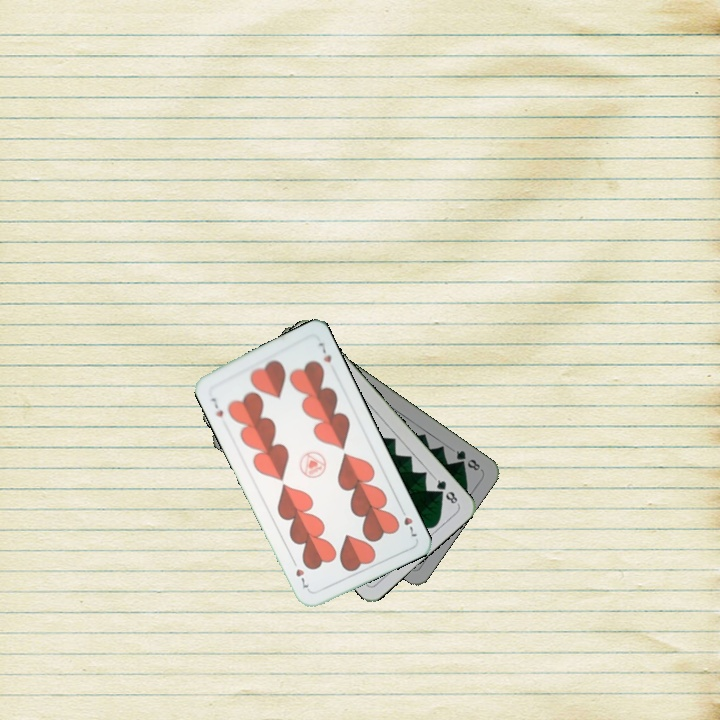G8: (430, 474, 461, 507), (452, 446, 483, 473)
H7: (396, 503, 420, 540), (207, 394, 226, 420)
